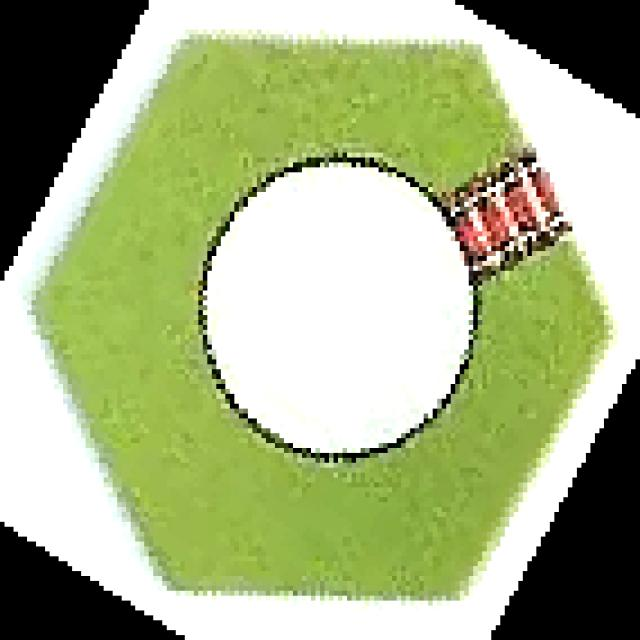13_4: (23, 38, 620, 606)
